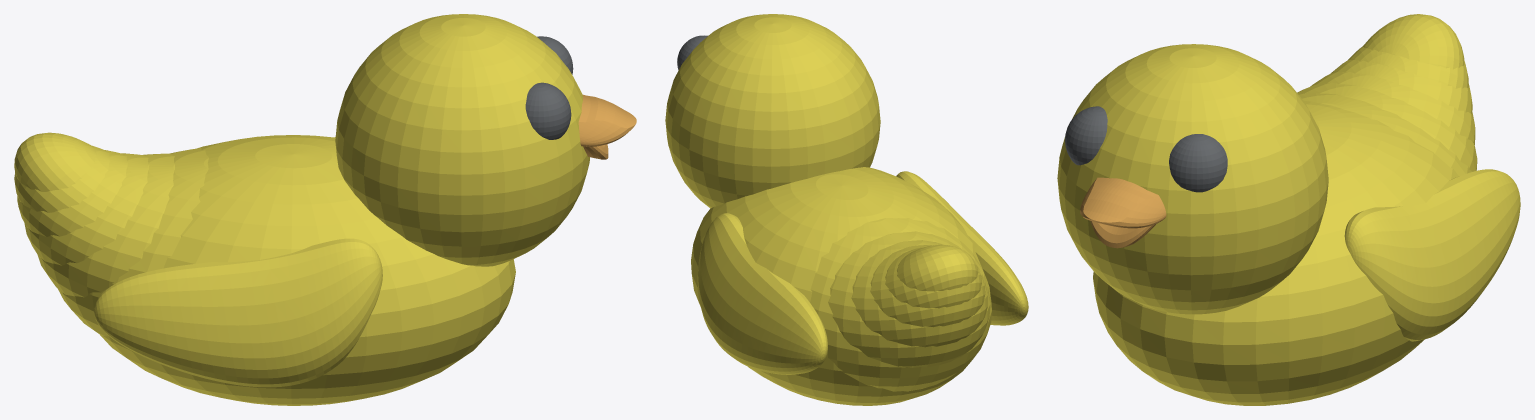
Rendered from Fantabulous Kup(1).glb.
3 views of the same model, side by side, from view 1: azimuth 30°, elevation 25°; view 2: azimuth 150°, elevation 25°; view 3: azimuth 270°, elevation 25° (orthographic). The views are drawn at different scales.
Visible parts, largest first — view 1: Mesh_Mesh_head_geo.001_lambert2SG.001; view 2: Mesh_Mesh_head_geo.001_lambert2SG.001; view 3: Mesh_Mesh_head_geo.001_lambert2SG.001.
Part boxes in pixels (x1=…): Mesh_Mesh_head_geo.001_lambert2SG.001: x1=14, y1=14, x2=636, y2=405; Mesh_Mesh_head_geo.001_lambert2SG.001: x1=665, y1=14, x2=1028, y2=405; Mesh_Mesh_head_geo.001_lambert2SG.001: x1=1057, y1=14, x2=1520, y2=405.
Size of the model in its own units: 14.97 by 11 by 12.03.
